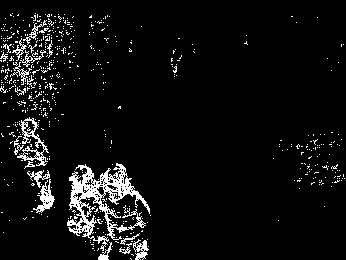person: (103, 159, 151, 260), (69, 161, 111, 260), (15, 118, 55, 212)
